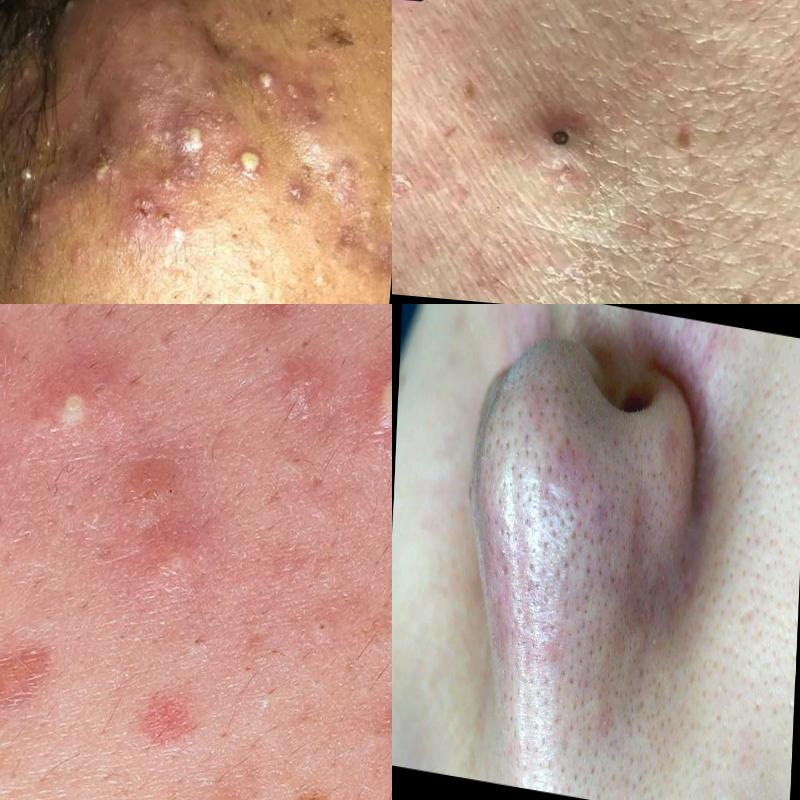acne_scars: (1, 601, 77, 726)
blackhead: (631, 680, 681, 792), (526, 108, 600, 176), (520, 364, 575, 444), (547, 442, 597, 523), (501, 596, 550, 678), (515, 687, 559, 777), (586, 622, 637, 698), (510, 516, 553, 595), (631, 456, 674, 535), (550, 594, 584, 686), (508, 440, 547, 520), (559, 693, 599, 771), (580, 542, 619, 616), (476, 498, 508, 584), (621, 550, 655, 619), (553, 519, 586, 590), (595, 465, 629, 532), (481, 429, 512, 496)
cystic: (179, 108, 208, 163)
milium: (659, 539, 678, 596), (598, 698, 619, 743), (642, 626, 668, 659)
purulent: (16, 359, 136, 451), (235, 49, 281, 107), (229, 138, 269, 186), (21, 190, 55, 239), (25, 156, 32, 186)
sebo-crystan-conglo: (38, 1, 209, 156), (288, 571, 362, 659), (355, 335, 393, 483), (230, 316, 303, 385), (179, 600, 234, 671), (181, 774, 260, 800)
